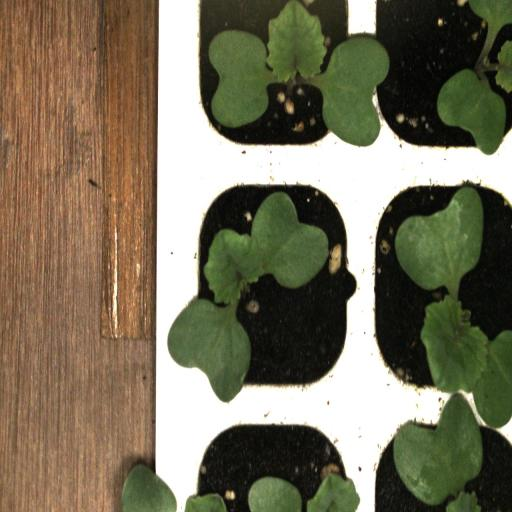Folha: (437, 40, 512, 155)
Germinacao: (176, 165, 362, 406), (364, 167, 512, 406), (176, 1, 362, 174)
